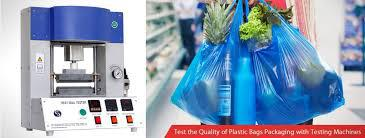Plastic: (245, 16, 350, 124), (179, 0, 259, 133)
